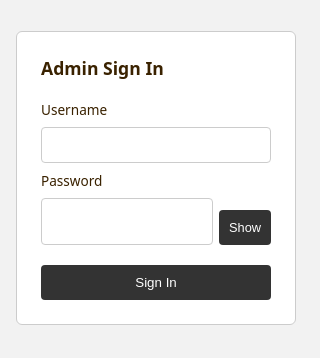
Test case: AdminLogin › shows an error message and does not navigate when login fails
Type "wrong" into the field labelled "Username" at (156, 145), box [41,127,271,163]
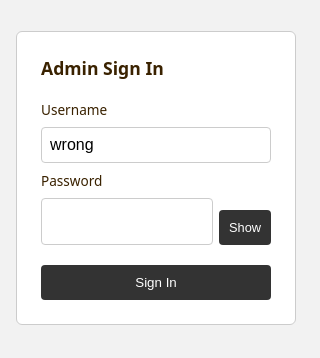
Type "nope" into the password field labelled "Password" at (127, 222), box [41,198,213,245]
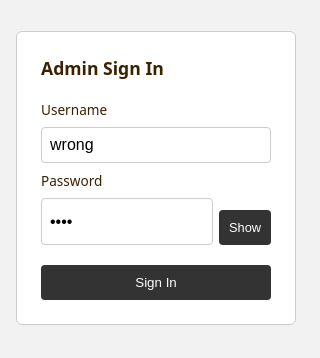
Click the button "Sign In" at (156, 282), box [41,265,271,300]
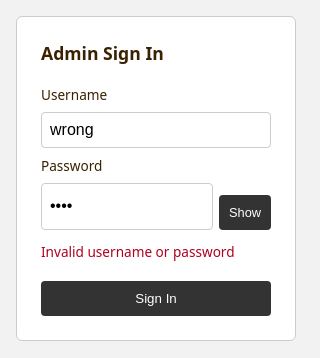
expect the text "Invalid username or password" is shown: met, box [41,242,235,260]
